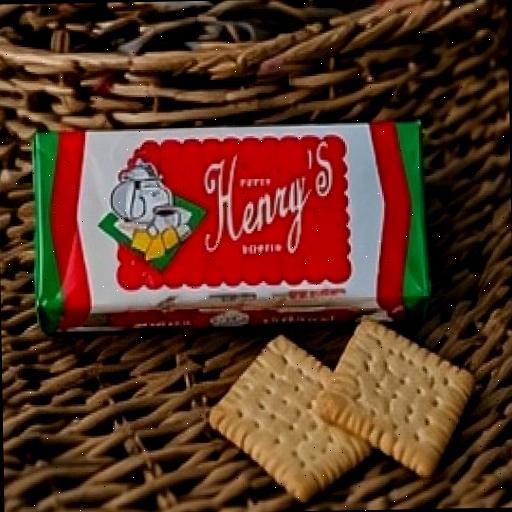henry-s: (6, 76, 506, 390)
